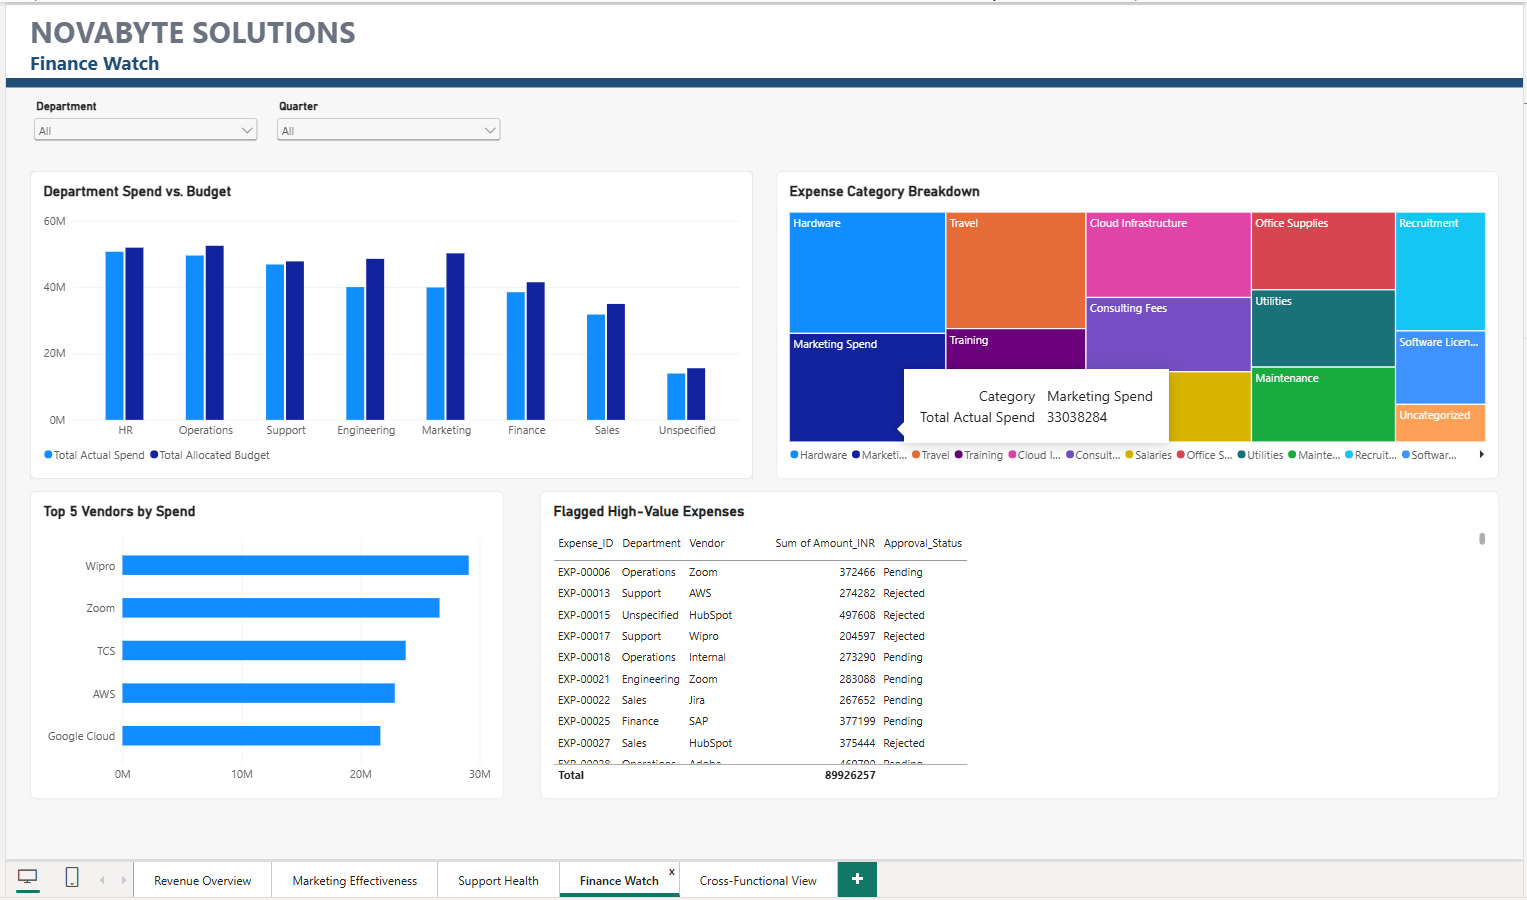

The dashboard page shown, as its layout file describes it:
{"tool":"powerbi","page":{"name":"Finance Watch","canvas":[1920,1080],"ordinal":3},"visuals":[{"type":"clusteredColumnChart","title":"Department Spend vs. Budget","fields":{"Category":["Finance_Expenses.Department"],"Y":["Measures_Table.Total Actual Spend","Measures_Table.Total Allocated Budget"]},"box":[30,210,915,390],"z":0},{"type":"treemap","title":"Expense Category Breakdown","fields":{"Group":["Finance_Expenses.Category"],"Values":["Measures_Table.Total Actual Spend"]},"box":[975,210,915,390],"z":1000},{"type":"barChart","title":"Top 5 Vendors by Spend","fields":{"Category":["Finance_Expenses.Vendor"],"Y":["Measures_Table.Total Actual Spend"]},"box":[30,615,600,390],"z":2000},{"type":"tableEx","title":"Flagged High-Value Expenses","fields":{"Values":["Finance_Expenses.Expense_ID","Finance_Expenses.Department","Finance_Expenses.Vendor","Sum(Finance_Expenses.Amount_INR)","Finance_Expenses.Approval_Status"]},"box":[675.9,615,1213.8,389.8],"z":3000},{"type":"slicer","fields":{"Values":["Finance_Expenses.Department"]},"box":[30,120,293,68],"z":4000},{"type":"slicer","fields":{"Values":["Finance_Expenses.Quarter"]},"box":[338,120,293,68],"z":5000},{"type":"shape","box":[0,0,1920,105],"z":6000},{"type":"shape","box":[0,93,1920,12],"z":7000},{"type":"textbox","box":[30,8,600,85],"z":8000}]}

Visuals, with their boxes on the page's 1920x1080 design canvas (x1, y1, x2, y2). These are canvas units, not pixel positions in the 1527x900 screenshot, which may show the page scaled, cropped or inside an application window:
"Department Spend vs. Budget" clusteredColumnChart: 30, 210, 945, 600
"Expense Category Breakdown" treemap: 975, 210, 1890, 600
"Top 5 Vendors by Spend" barChart: 30, 615, 630, 1005
"Flagged High-Value Expenses" tableEx: 676, 615, 1890, 1005
slicer - Finance_Expenses.Department: 30, 120, 323, 188
slicer - Finance_Expenses.Quarter: 338, 120, 631, 188
shape: 0, 0, 1920, 105
shape: 0, 93, 1920, 105
textbox: 30, 8, 630, 93
